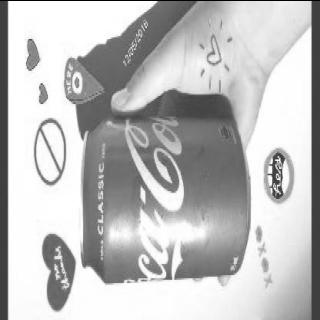alumunium_can: (78, 107, 252, 289)
